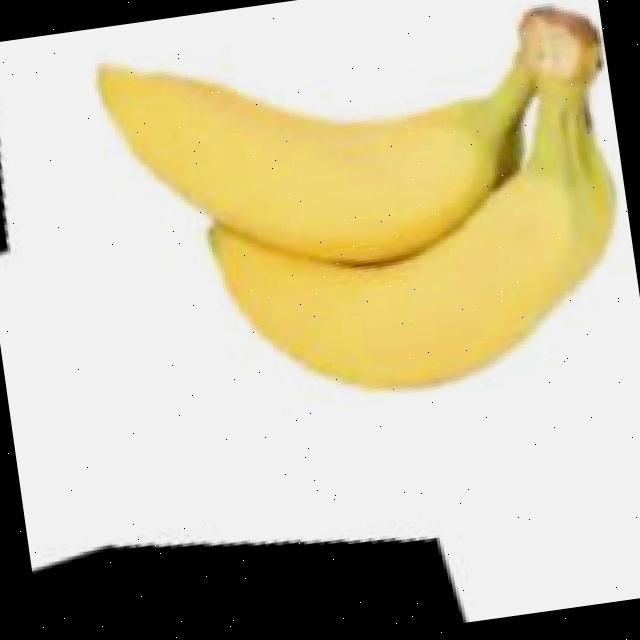banana: (56, 0, 640, 464), (162, 20, 640, 480), (61, 0, 608, 296)
